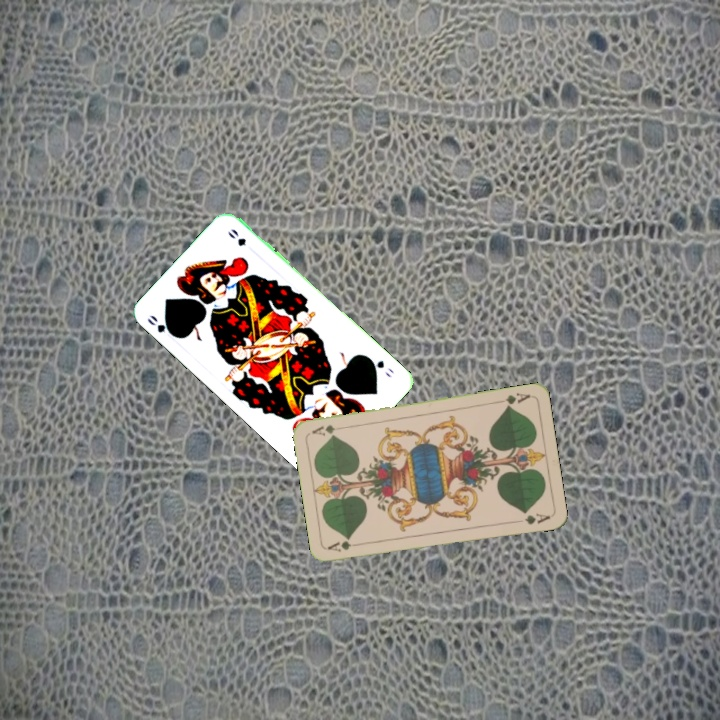GA: (493, 389, 533, 410), (324, 537, 365, 555)
GO: (143, 311, 179, 340), (364, 353, 396, 381)
